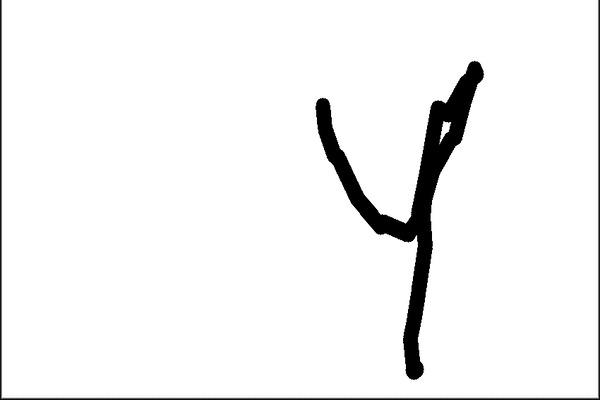Y: (298, 54, 492, 385)
